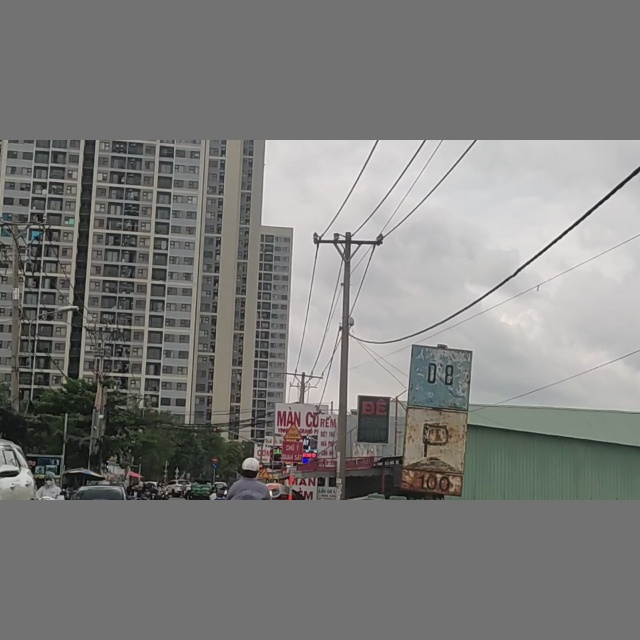W.245a: (281, 423, 303, 439)
